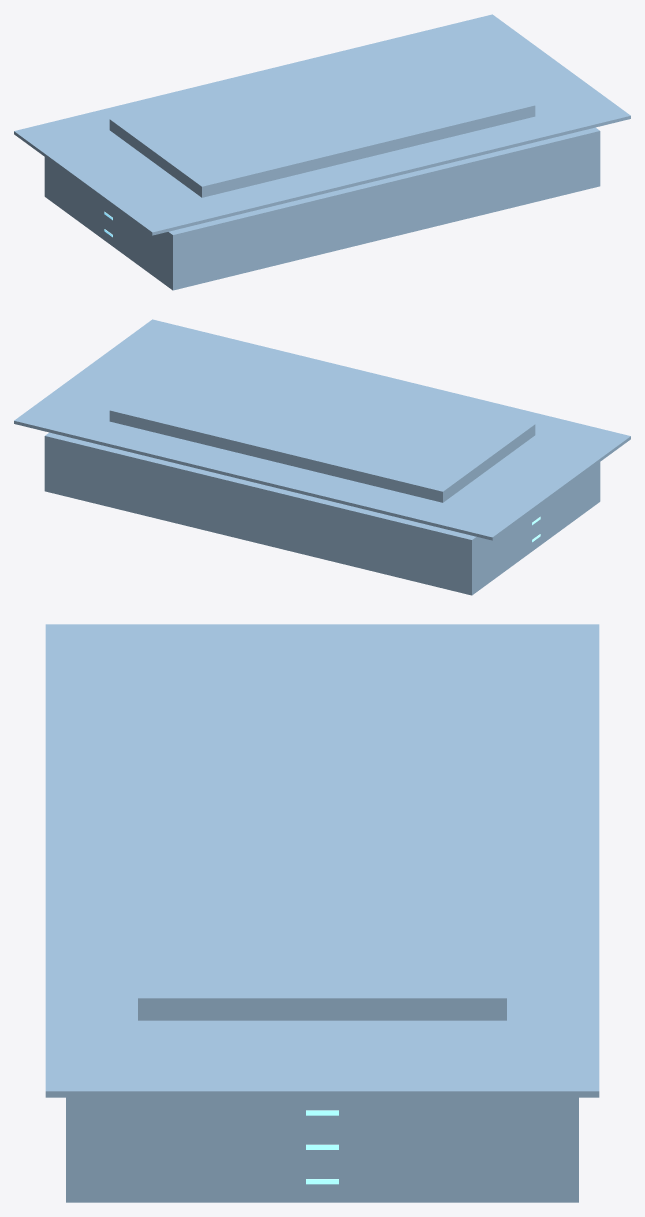
Rendered from cognara_mind_institute.glb.
3 renders of one model, top to bottom at view 1: azimuth 30°, elevation 25°; view 2: azimuth 150°, elevation 25°; view 3: azimuth 270°, elevation 25°, orthographic. The views are drawn at different scales.
Parts seen in each view (by area): view 1: cognara_mind_institute; view 2: cognara_mind_institute; view 3: cognara_mind_institute.
Part boxes in pixels (x1,y1,x2,y2): cognara_mind_institute: [14, 14, 630, 290]; cognara_mind_institute: [14, 319, 630, 595]; cognara_mind_institute: [45, 624, 599, 1202].
Size of the model in its own units: 85.34 by 13.5 by 42.77.
